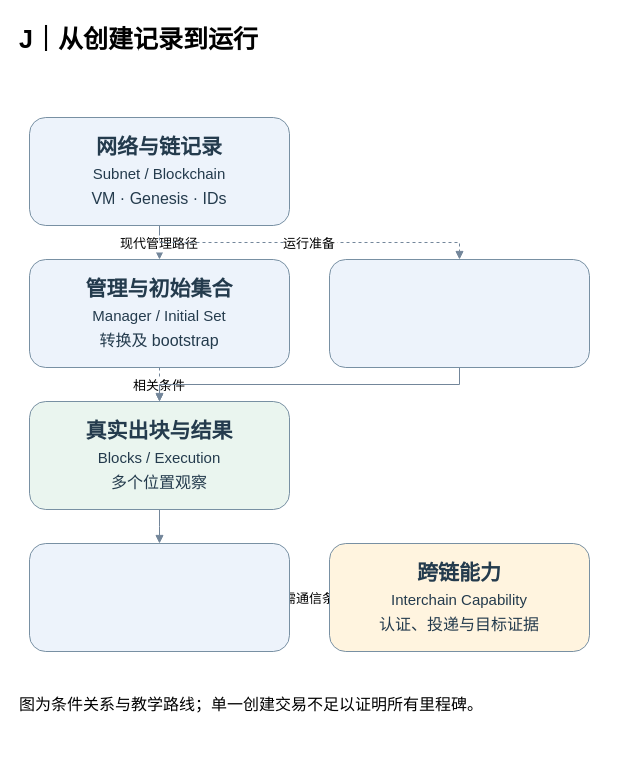
This 618x775 diagram has some shape labels left out. The shapes that lost their labels are listed below. From the top down, each one's box as (x1, y1, x2, y2) in pixels, then its label:
(328, 258, 590, 368): 节点与配置 Nodes / Configuration 兼容软件与连通性
(28, 542, 290, 652): RPC 与应用 RPC / Application 分别验证可访问与业务
